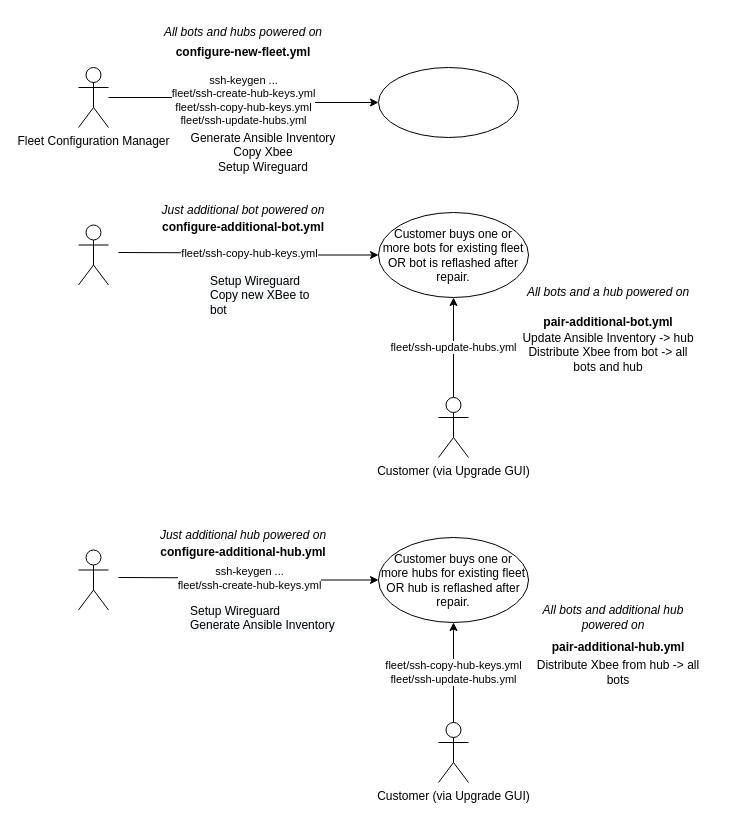
This 730x820 diagram has some shape labels left out. The box of each missing label's shape, as (x1, y1, x2, y2) in pixels:
Bot repairperson OR Fleet Configuration Manager: (78, 224, 108, 285)
Hub repairperson OR Fleet Configuration Manager: (78, 549, 108, 610)
Initial Fleet Build (all bots/hubs available): (378, 66, 518, 138)
